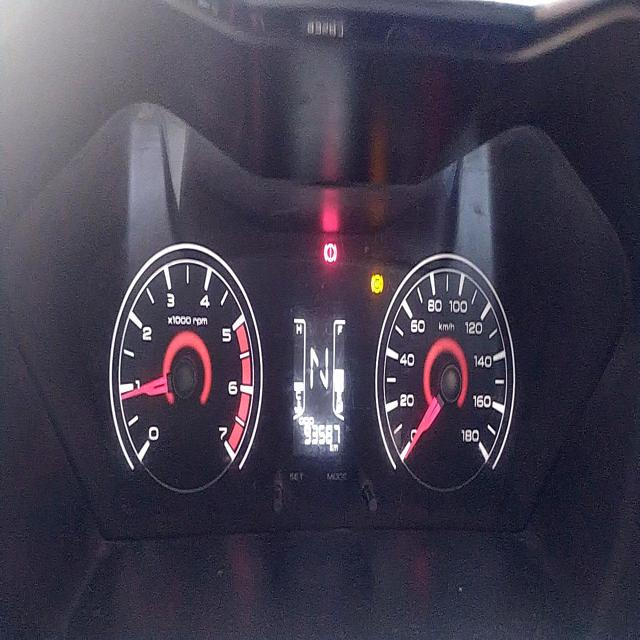odometer: (302, 423, 343, 446)
